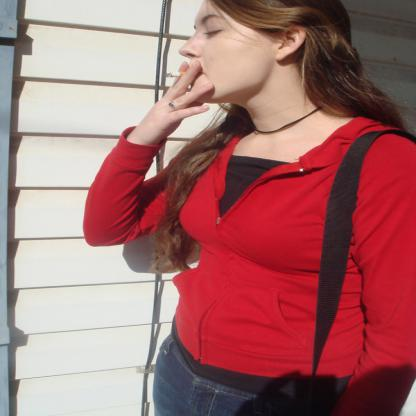smoking: (165, 72, 198, 78)
